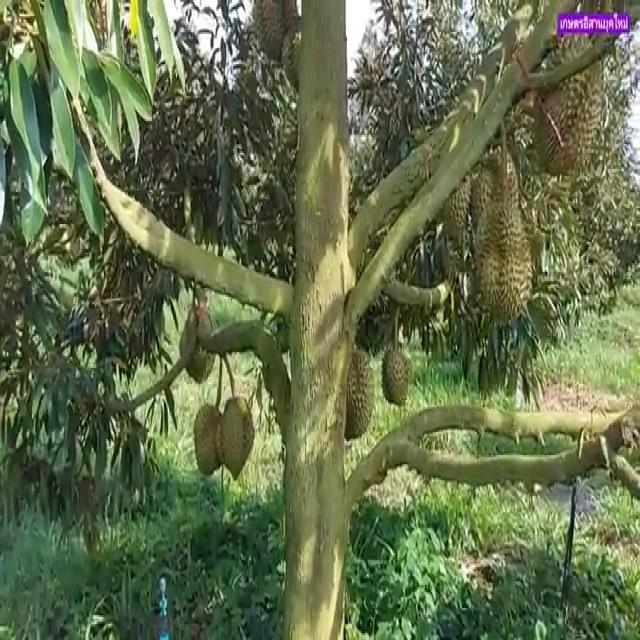durian: (532, 27, 606, 182), (474, 191, 536, 323), (470, 138, 522, 260), (280, 13, 349, 96), (328, 334, 378, 445), (424, 136, 475, 241), (214, 394, 258, 489), (251, 0, 305, 68), (178, 302, 220, 386), (192, 394, 230, 480), (380, 340, 412, 413)
